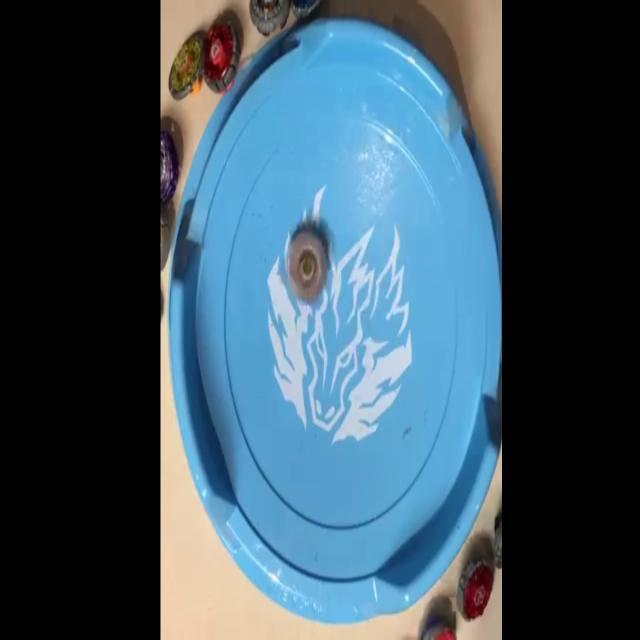Beyblade: (200, 20, 240, 92), (288, 232, 326, 300), (456, 559, 492, 623), (169, 38, 202, 100)
